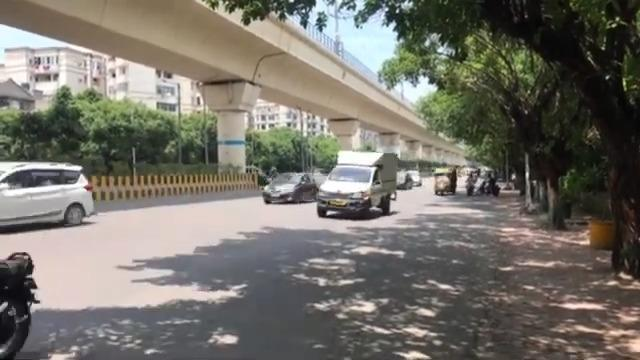Auto: (433, 166, 456, 195)
Bike: (0, 250, 40, 359)
Truck: (315, 149, 399, 218)
